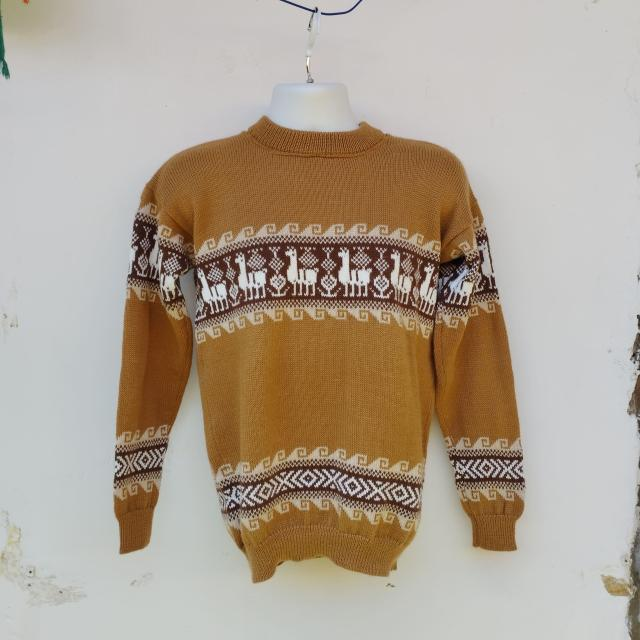Chompa: (112, 81, 526, 583)
